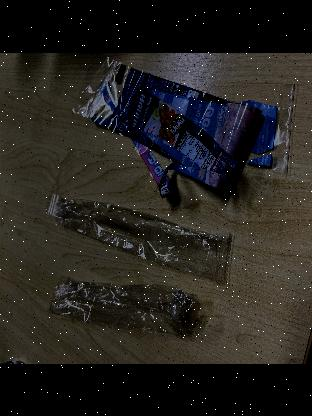Others: (68, 53, 298, 195), (44, 190, 238, 276), (48, 272, 216, 338)
